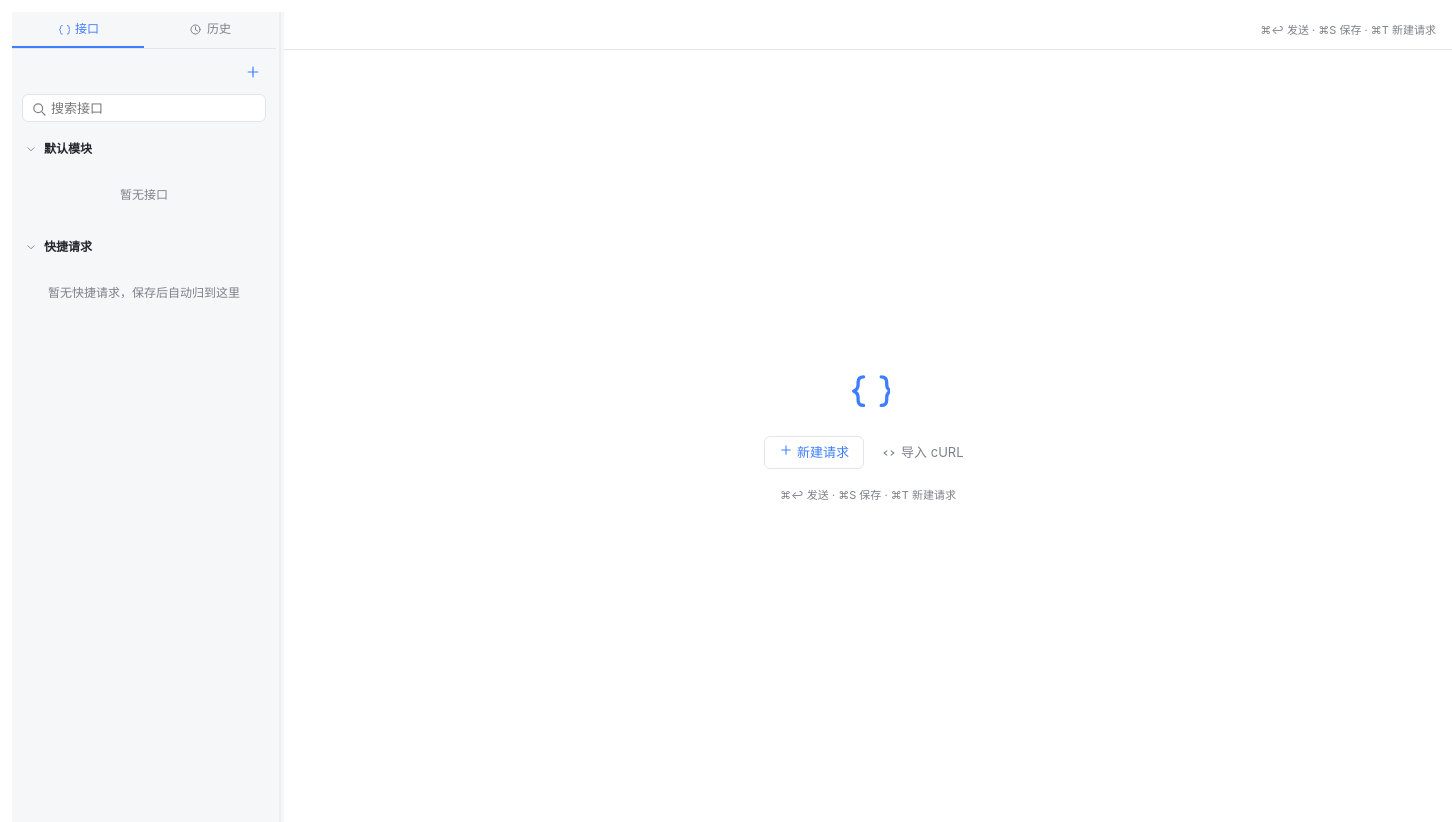
Test: body type chips › names the types after their wire formats
Click the button "新建请求": {"x": 814, "y": 453} [764,436,864,469]
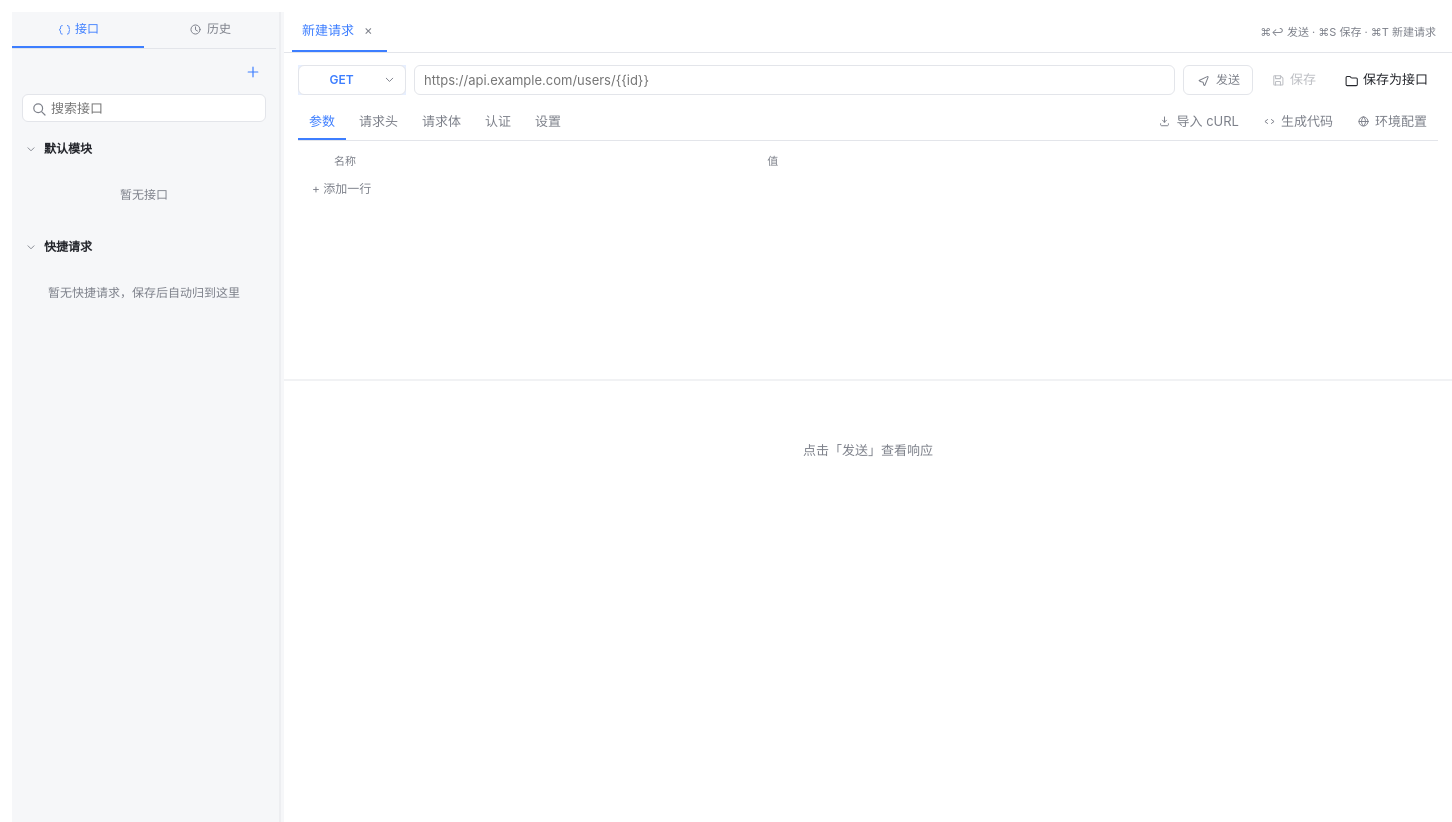
Click the button "请求体": {"x": 442, "y": 122} [411,104,472,140]
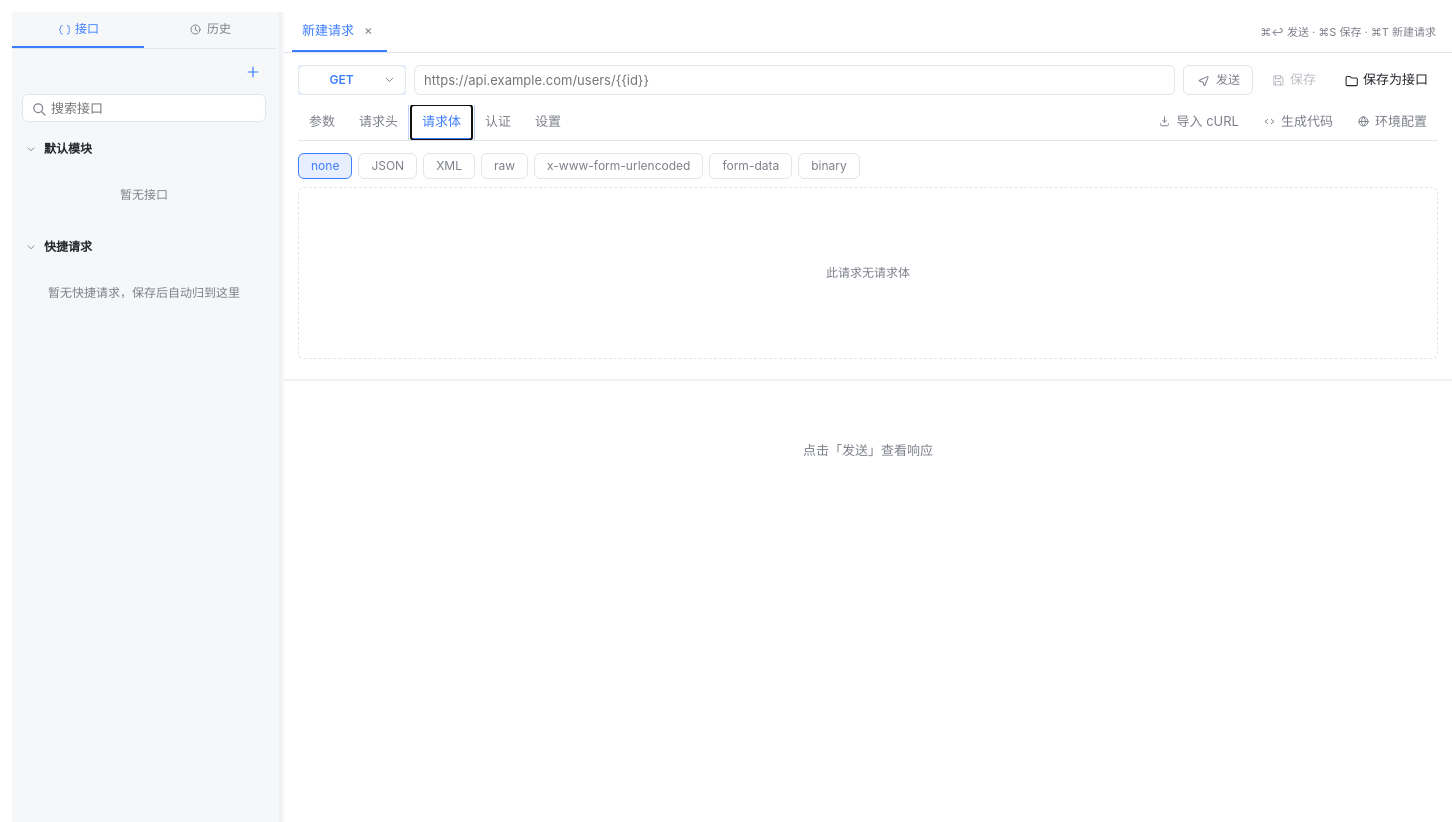
Expected: the button "none" is shown, [298,153,352,179]
Expected: the button "JSON" is shown, [358,153,417,179]
Expected: the button "XML" is shown, [423,153,475,179]
